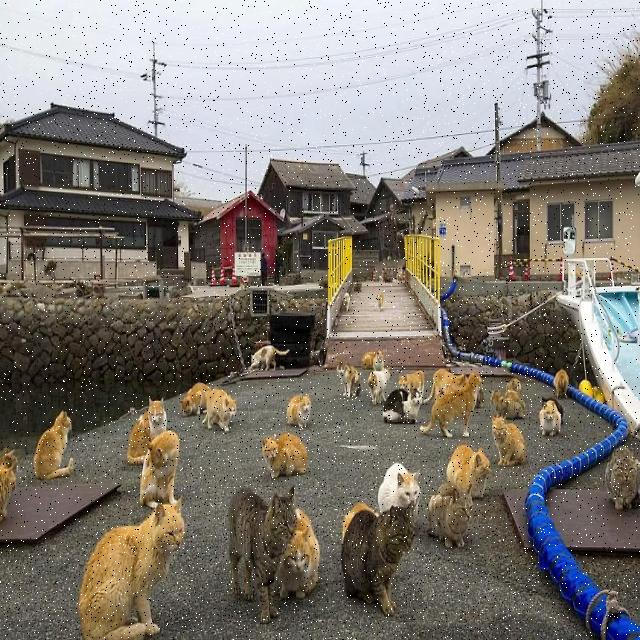cat: (79, 499, 185, 640), (229, 486, 298, 622), (341, 507, 414, 614), (420, 371, 481, 437), (276, 508, 320, 598), (140, 430, 179, 507), (428, 482, 472, 548), (34, 411, 74, 478), (126, 400, 166, 462), (446, 445, 491, 497), (379, 463, 420, 519), (605, 447, 640, 508), (262, 433, 306, 477), (492, 416, 526, 464), (424, 368, 468, 402), (202, 390, 236, 432), (382, 388, 422, 423), (342, 501, 378, 539), (491, 388, 525, 418), (180, 383, 210, 416), (249, 345, 289, 369), (0, 465, 16, 521), (368, 368, 390, 404), (336, 364, 360, 397), (286, 396, 311, 427), (539, 400, 561, 435), (399, 370, 425, 395), (542, 397, 564, 421), (361, 349, 385, 371), (554, 370, 569, 398), (506, 377, 521, 393), (476, 388, 484, 406), (376, 293, 384, 309), (352, 281, 362, 293), (344, 293, 350, 310)
